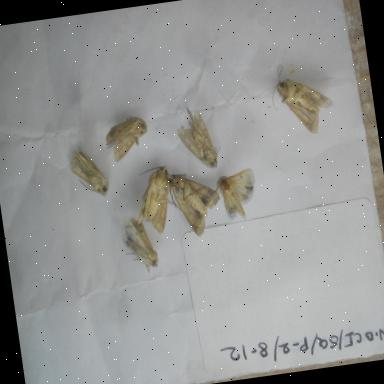abw: (264, 52, 340, 142), (162, 157, 230, 244), (127, 160, 185, 242), (170, 96, 228, 176), (58, 136, 114, 206), (113, 207, 166, 279), (210, 157, 264, 227), (96, 108, 160, 166)
